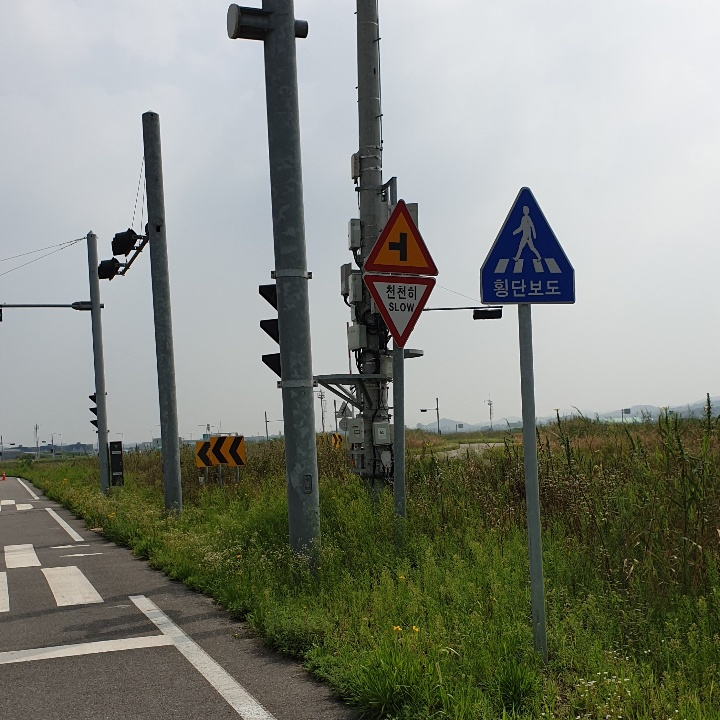cross: (504, 195, 549, 269)
